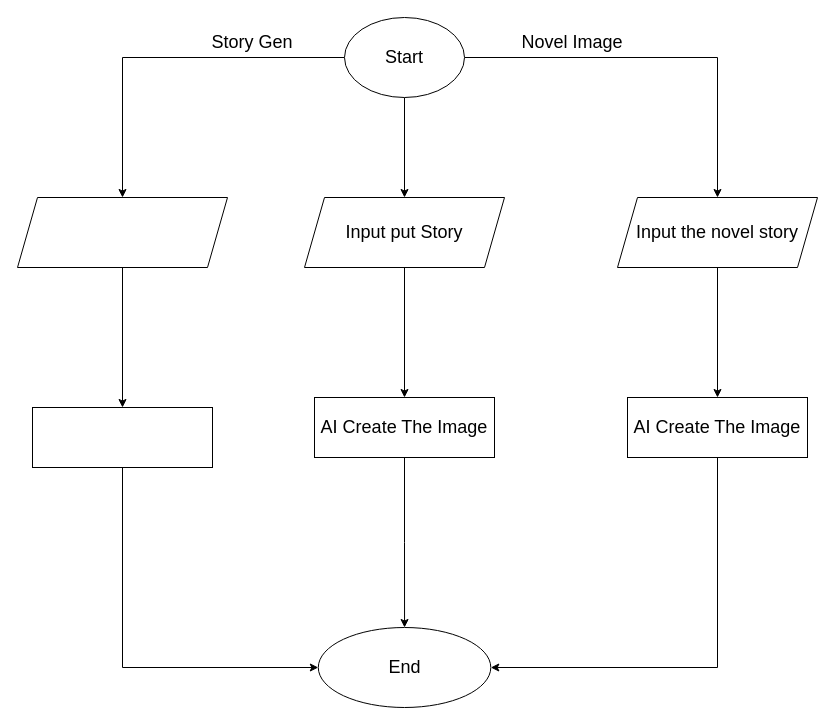
Image size: 835x725. Some labels were removed from this diagram. Here are the shapes that lost their labels. From the top down, the centre of each, then its label:
At point 122,232: "Input what about the story you want to gen".
At point 122,437: "Create The Story".
